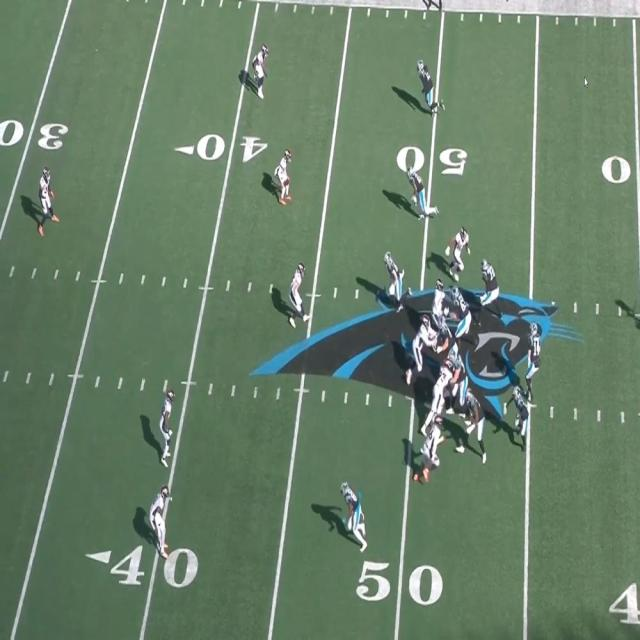db: (150, 485, 170, 558), (253, 42, 269, 97), (160, 393, 172, 464), (276, 150, 292, 202), (40, 164, 52, 224)
lb: (290, 264, 306, 326)
qb: (528, 322, 540, 378)
skill: (346, 480, 366, 544), (386, 253, 404, 313), (418, 59, 437, 112), (512, 389, 527, 451), (409, 167, 427, 215)
